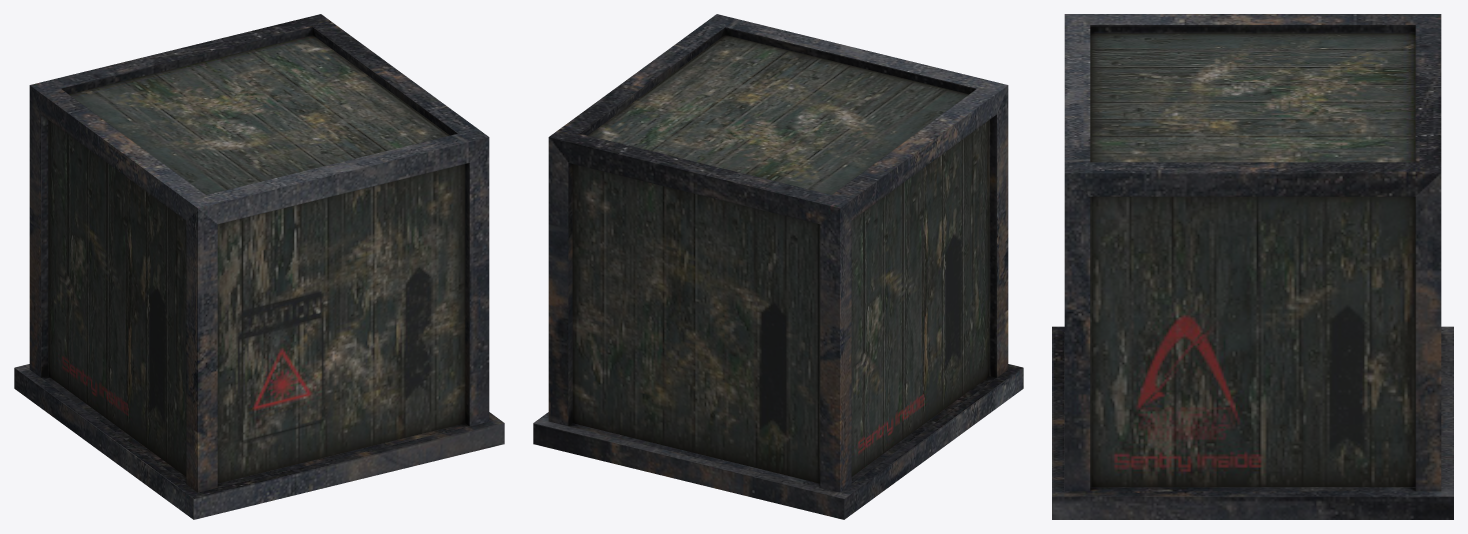
File: SentryCrate.FBX
3 renders of one model, left to right at view 1: azimuth 30°, elevation 25°; view 2: azimuth 150°, elevation 25°; view 3: azimuth 270°, elevation 25°, orthographic. The views are drawn at different scales.
Parts seen in each view (by area): view 1: SentryCrate; view 2: SentryCrate; view 3: SentryCrate.
Boxes of the visible parts, x1,y1,x2,y2 form: SentryCrate: [14, 14, 504, 519]; SentryCrate: [533, 14, 1023, 519]; SentryCrate: [1052, 14, 1453, 519].
Size of the model in its own units: 122 by 114 by 122.
Materials: 1 (1 with a texture image).
